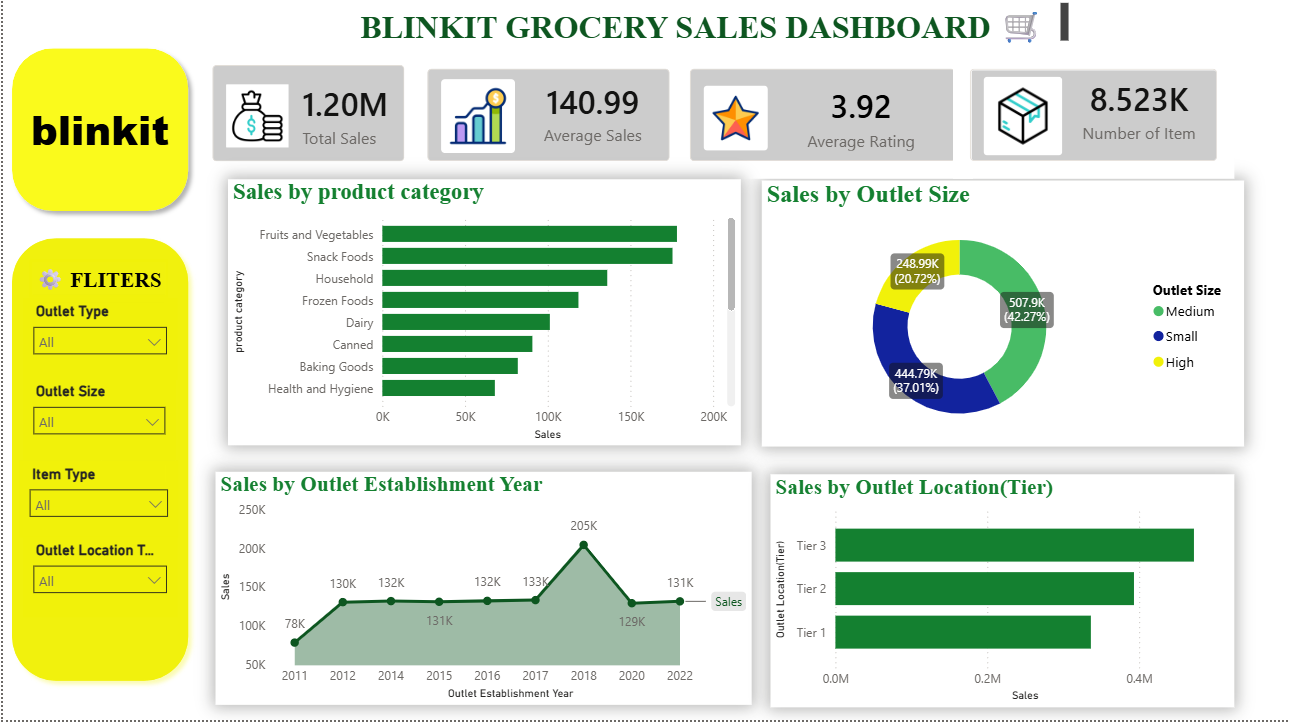

The page's visual inventory and layout, read from the dashboard file:
{"tool":"powerbi","page":{"name":"Page 1","canvas":[1280,720],"ordinal":0},"visuals":[{"type":"cardVisual","fields":{"Data":["Avg(BlinkIT Grocery Data.Sales)"]},"box":[405,53.3,275,126.7],"z":0},{"type":"donutChart","fields":{"Y":["Sum(BlinkIT Grocery Data.Sales)"],"Category":["BlinkIT Grocery Data.Outlet Size"]},"box":[755,181.7,480,265],"z":1000},{"type":"textbox","box":[351.1,0,714.4,50],"z":2000},{"type":"shape","box":[0,41.7,193.3,180],"z":5000},{"type":"shape","box":[0,230,193.3,458.3],"z":6000},{"type":"cardVisual","fields":{"Data":["Sum(BlinkIT Grocery Data.Sales)"]},"box":[191.7,50,225,130],"z":7000},{"type":"cardVisual","fields":{"Data":["Avg(BlinkIT Grocery Data.Rating)"]},"box":[666.7,53.3,298.3,126.7],"z":8000},{"type":"cardVisual","fields":{"Data":["CountNonNull(BlinkIT Grocery Data.Item Identifier)"]},"box":[945,53.3,280,126.7],"z":9000},{"type":"clusteredBarChart","fields":{"Y":["Sum(BlinkIT Grocery Data.Sales)"],"Category":["BlinkIT Grocery Data.Item Type"]},"box":[223.3,180,510,265],"z":10000},{"type":"lineChart","fields":{"Category":["BlinkIT Grocery Data.Outlet Establishment Year"],"Y":["Sum(BlinkIT Grocery Data.Sales)"]},"box":[211.7,471.7,533.3,231.7],"z":11000},{"type":"barChart","fields":{"Y":["Sum(BlinkIT Grocery Data.Sales)"],"Category":["BlinkIT Grocery Data.Outlet Location Type"]},"box":[763.3,473.3,461.7,231.7],"z":12000},{"type":"actionButton","box":[26.7,260,138.3,38.3],"z":13000},{"type":"slicer","fields":{"Values":["BlinkIT Grocery Data.Outlet Type"]},"box":[20,298.3,153.3,81.7],"z":13001},{"type":"slicer","fields":{"Values":["BlinkIT Grocery Data.Item Type"]},"box":[16.7,460,158.3,76.7],"z":13002},{"type":"slicer","fields":{"Values":["BlinkIT Grocery Data.Outlet Size"]},"box":[20,378.3,151.7,81.7],"z":13003},{"type":"slicer","fields":{"Values":["BlinkIT Grocery Data.Outlet Location Type"]},"box":[20,536.7,153.3,80],"z":13004}]}

Visuals, with their boxes in screenshot pixels (x1, y1, x2, y2), scaled from the page's 1280x720 canvas onto the 1290x722 screenshot:
cardVisual - Avg(BlinkIT Grocery Data.Sales): pyautogui.locateOnScreen(408, 53, 685, 180)
donutChart - Sum(BlinkIT Grocery Data.Sales) x BlinkIT Grocery Data.Outlet Size: pyautogui.locateOnScreen(761, 182, 1245, 448)
textbox: pyautogui.locateOnScreen(354, 0, 1074, 50)
shape: pyautogui.locateOnScreen(0, 42, 195, 222)
shape: pyautogui.locateOnScreen(0, 231, 195, 690)
cardVisual - Sum(BlinkIT Grocery Data.Sales): pyautogui.locateOnScreen(193, 50, 420, 180)
cardVisual - Avg(BlinkIT Grocery Data.Rating): pyautogui.locateOnScreen(672, 53, 973, 180)
cardVisual - CountNonNull(BlinkIT Grocery Data.Item Identifier): pyautogui.locateOnScreen(952, 53, 1235, 180)
clusteredBarChart - Sum(BlinkIT Grocery Data.Sales) x BlinkIT Grocery Data.Item Type: pyautogui.locateOnScreen(225, 180, 739, 446)
lineChart - BlinkIT Grocery Data.Outlet Establishment Year x Sum(BlinkIT Grocery Data.Sales): pyautogui.locateOnScreen(213, 473, 751, 705)
barChart - Sum(BlinkIT Grocery Data.Sales) x BlinkIT Grocery Data.Outlet Location Type: pyautogui.locateOnScreen(769, 475, 1235, 707)
actionButton: pyautogui.locateOnScreen(27, 261, 166, 299)
slicer - BlinkIT Grocery Data.Outlet Type: pyautogui.locateOnScreen(20, 299, 175, 381)
slicer - BlinkIT Grocery Data.Item Type: pyautogui.locateOnScreen(17, 461, 176, 538)
slicer - BlinkIT Grocery Data.Outlet Size: pyautogui.locateOnScreen(20, 379, 173, 461)
slicer - BlinkIT Grocery Data.Outlet Location Type: pyautogui.locateOnScreen(20, 538, 175, 618)
